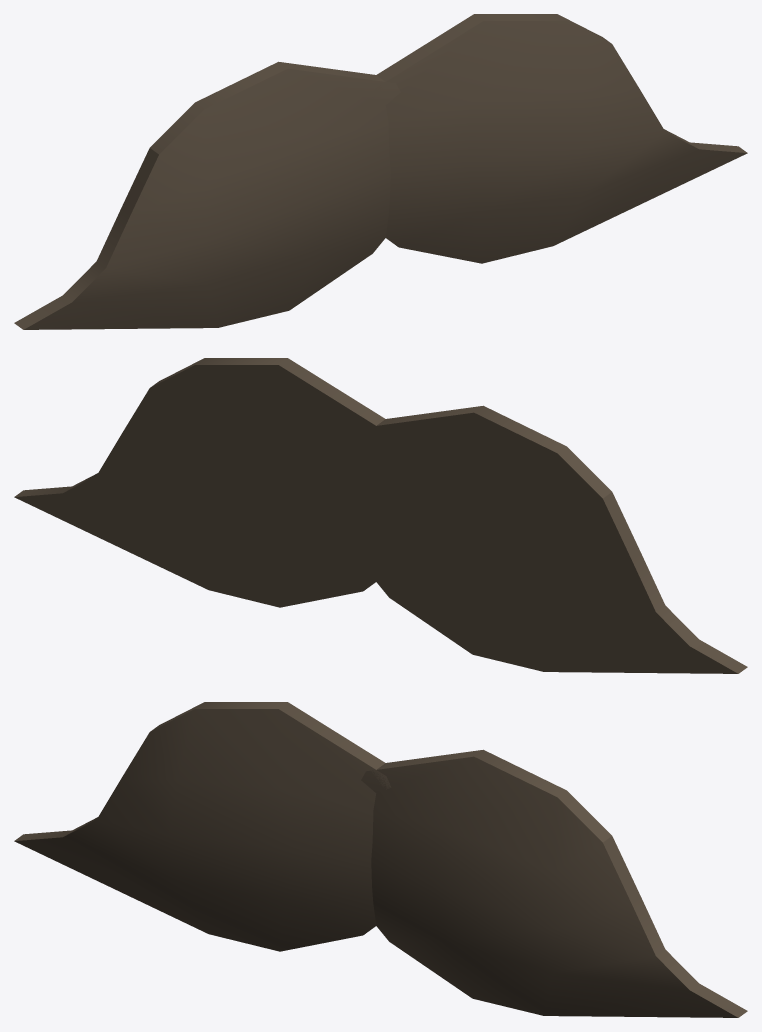
The model's file is fbx_mustache.fbx.
The picture shows the model from 3 angles, top to bottom: view 1: azimuth 30°, elevation 25°; view 2: azimuth 150°, elevation 25°; view 3: azimuth 330°, elevation 25°; orthographic projection.
Parts seen in each view (by area): view 1: mustache_geo; view 2: mustache_geo; view 3: mustache_geo.
Boxes of the visible parts, x1,y1,x2,y2 form: mustache_geo: [14, 14, 747, 329]; mustache_geo: [14, 358, 747, 673]; mustache_geo: [14, 702, 747, 1017].
Size of the model in its own units: 0.3145 by 0.1006 by 0.0174.
Materials: 1 (1 with a texture image).
